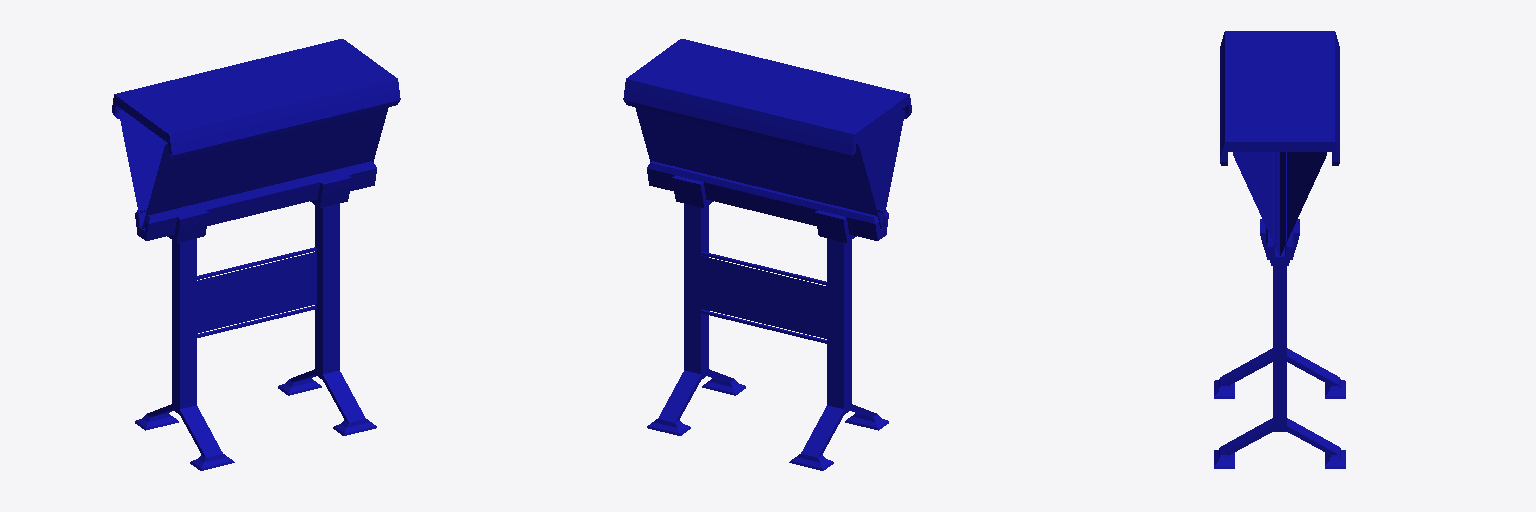
The model's file is info_panel.obj.
3 views of the same model, side by side, from view 1: azimuth 30°, elevation 25°; view 2: azimuth 150°, elevation 25°; view 3: azimuth 270°, elevation 25° (orthographic).
Visible parts, largest first — view 1: infopanel; view 2: infopanel; view 3: infopanel.
Part boxes in pixels (bbox=[...]): infopanel: bbox=[112, 39, 400, 470]; infopanel: bbox=[623, 39, 911, 470]; infopanel: bbox=[1214, 31, 1345, 468].
Bounding box in the file's own units: 0.7558 × 1.07 × 0.3786.